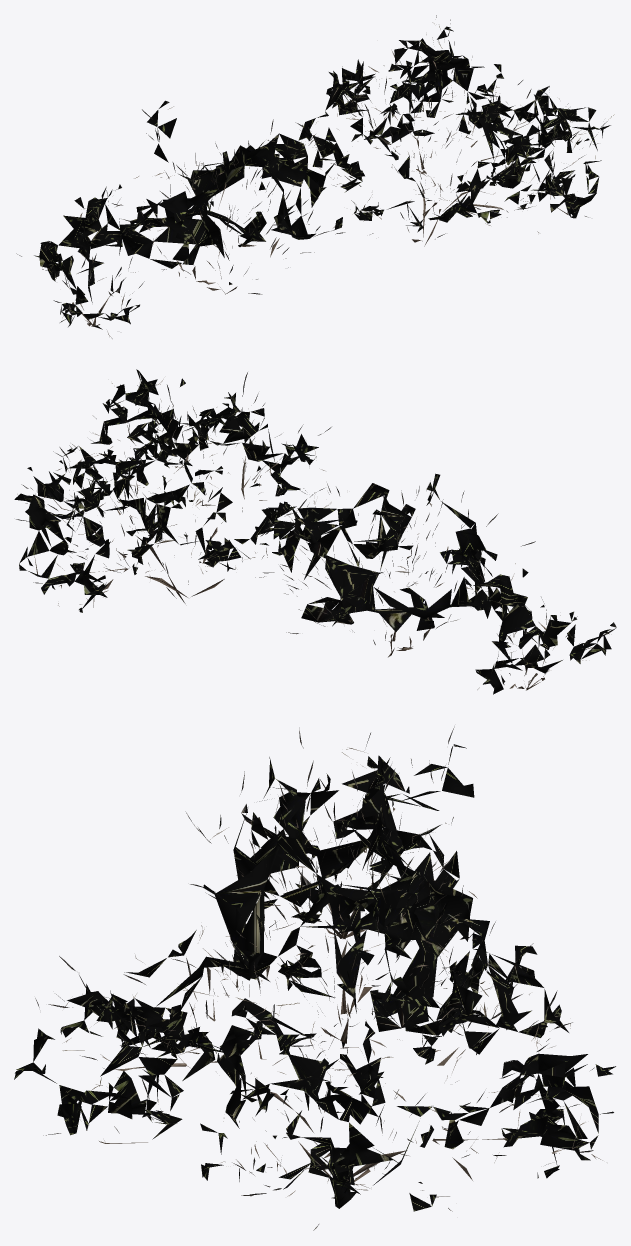
The model's file is searsia_burchellii_far.glb.
The picture shows the model from 3 angles, top to bottom: view 1: azimuth 30°, elevation 25°; view 2: azimuth 150°, elevation 25°; view 3: azimuth 270°, elevation 25°; orthographic projection. The views are drawn at different scales.
Parts seen in each view (by area): view 1: searsia_burchellii_large_LOD0, searsia_burchellii_medium_LOD0, searsia_burchellii_small_LOD0; view 2: searsia_burchellii_large_LOD0, searsia_burchellii_medium_LOD0, searsia_burchellii_small_LOD0; view 3: searsia_burchellii_large_LOD0, searsia_burchellii_medium_LOD0, searsia_burchellii_small_LOD0.
Boxes of the visible parts, bbox=[...] form: searsia_burchellii_large_LOD0: bbox=[295, 15, 614, 246]; searsia_burchellii_medium_LOD0: bbox=[112, 100, 345, 294]; searsia_burchellii_small_LOD0: bbox=[16, 184, 144, 338]; searsia_burchellii_large_LOD0: bbox=[14, 369, 331, 612]; searsia_burchellii_medium_LOD0: bbox=[280, 473, 535, 657]; searsia_burchellii_small_LOD0: bbox=[465, 556, 616, 694]; searsia_burchellii_large_LOD0: bbox=[14, 872, 615, 1230]; searsia_burchellii_medium_LOD0: bbox=[171, 726, 474, 1059]; searsia_burchellii_small_LOD0: bbox=[236, 733, 477, 939].
Bounding box in the file's own units: 8.3 × 3.12 × 4.88.
Materials: 3 (3 with a texture image).
